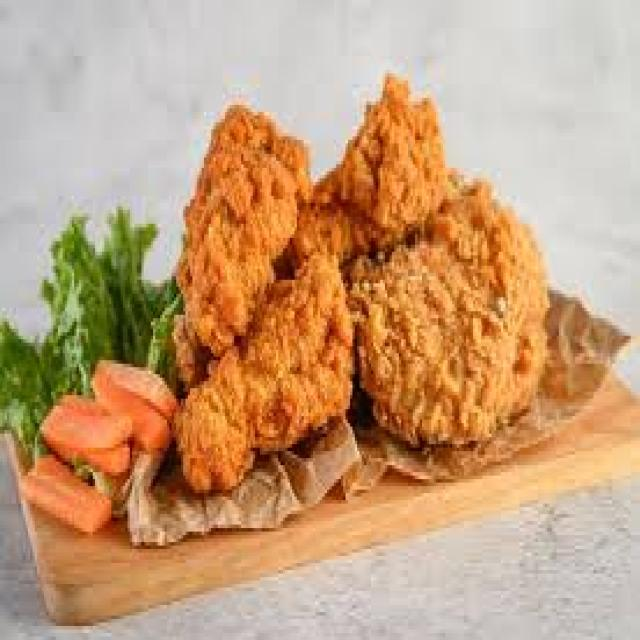Frango: (343, 187, 549, 446), (179, 248, 350, 490), (176, 105, 308, 388), (316, 77, 446, 301)
